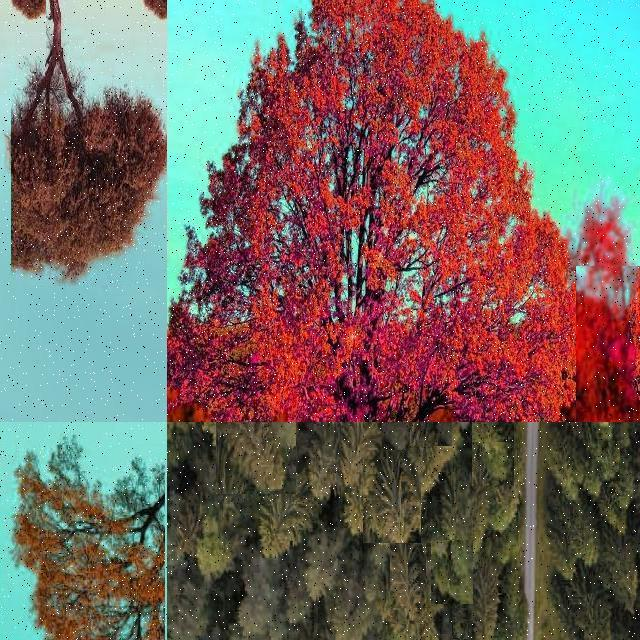tree: (168, 0, 584, 422), (11, 0, 167, 286), (0, 422, 165, 640), (576, 266, 640, 422), (181, 448, 243, 576), (216, 422, 296, 494), (256, 463, 316, 557), (442, 468, 502, 550), (363, 459, 421, 543), (554, 572, 618, 640), (406, 422, 464, 493), (545, 492, 587, 584), (330, 422, 382, 492), (304, 520, 346, 604), (612, 424, 640, 548), (168, 564, 212, 640), (332, 559, 372, 640), (600, 528, 640, 608), (390, 544, 426, 624), (472, 422, 514, 486), (431, 540, 473, 604), (0, 0, 46, 56), (471, 558, 502, 640), (284, 564, 312, 628), (308, 422, 359, 454), (396, 422, 452, 446), (611, 456, 633, 512), (502, 565, 522, 619), (608, 422, 640, 448), (382, 422, 410, 450), (452, 591, 468, 639), (472, 422, 508, 442), (602, 441, 620, 481), (156, 0, 168, 18)
